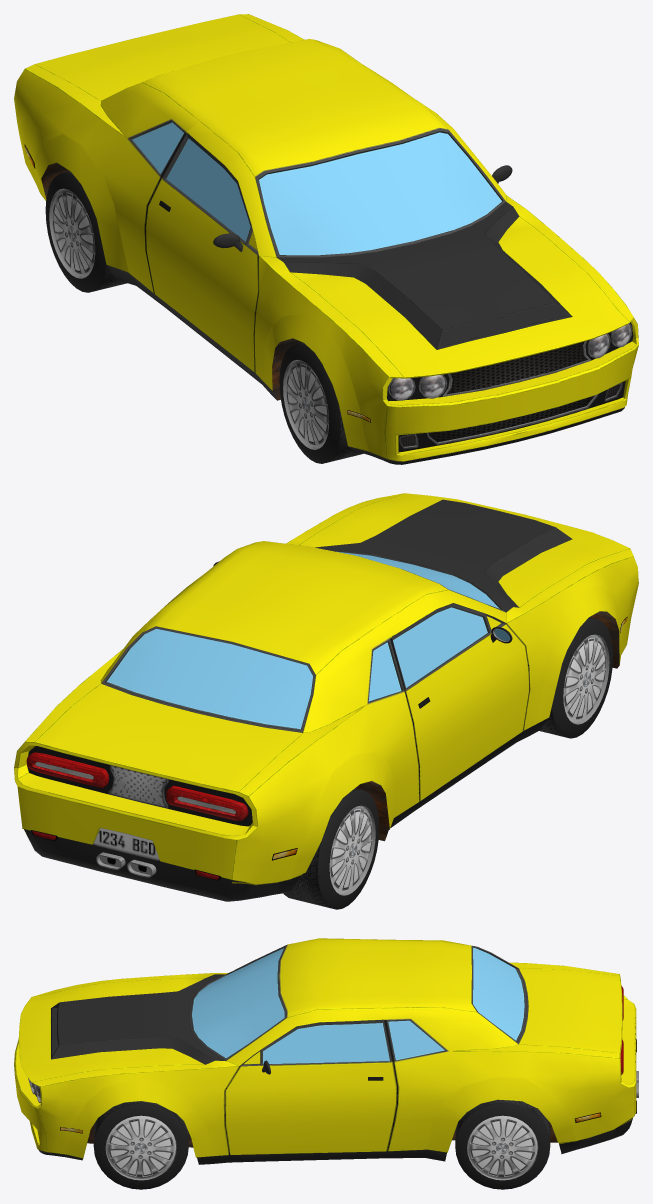
Rendered from simple_sport_car.glb.
The picture shows the model from 3 angles, top to bottom: view 1: azimuth 30°, elevation 25°; view 2: azimuth 150°, elevation 25°; view 3: azimuth 270°, elevation 25°; orthographic projection. The views are drawn at different scales.
Visible parts, largest first — view 1: Body, FL, BL; view 2: Body, BL, FL; view 3: Body, BR, FR.
Part boxes in pixels (box(x1,y1,x2,y2)): Body: box(14, 14, 638, 464); FL: box(279, 342, 363, 463); BL: box(45, 171, 127, 292); Body: box(14, 493, 638, 901); BL: box(283, 788, 379, 909); FL: box(539, 617, 613, 738); Body: box(14, 938, 638, 1164); BR: box(455, 1099, 550, 1189); FR: box(93, 1101, 188, 1189).
Bounding box in the file's own units: 151 × 107 × 355.
2 materials, 2 textured.
